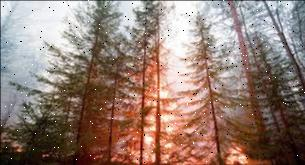fire: (215, 120, 265, 165)
